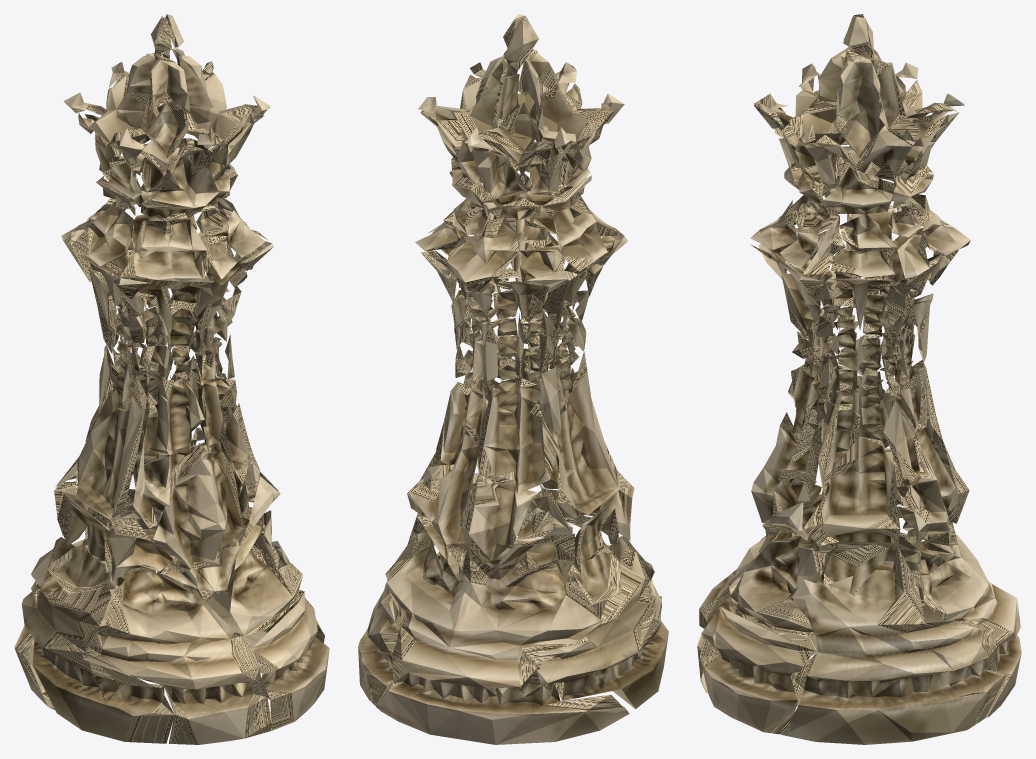
The model's file is queen.glb.
3 views of the same model, side by side, from view 1: azimuth 30°, elevation 25°; view 2: azimuth 150°, elevation 25°; view 3: azimuth 270°, elevation 25° (orthographic).
Parts seen in each view (by area): view 1: geometry_0; view 2: geometry_0; view 3: geometry_0.
Part boxes in pixels (bbox=[...]): geometry_0: bbox=[14, 14, 329, 744]; geometry_0: bbox=[358, 14, 668, 744]; geometry_0: bbox=[697, 14, 1021, 744].
Size of the model in its own units: 0.3142 by 0.7707 by 0.3385.
Materials: 1 (1 with a texture image).
